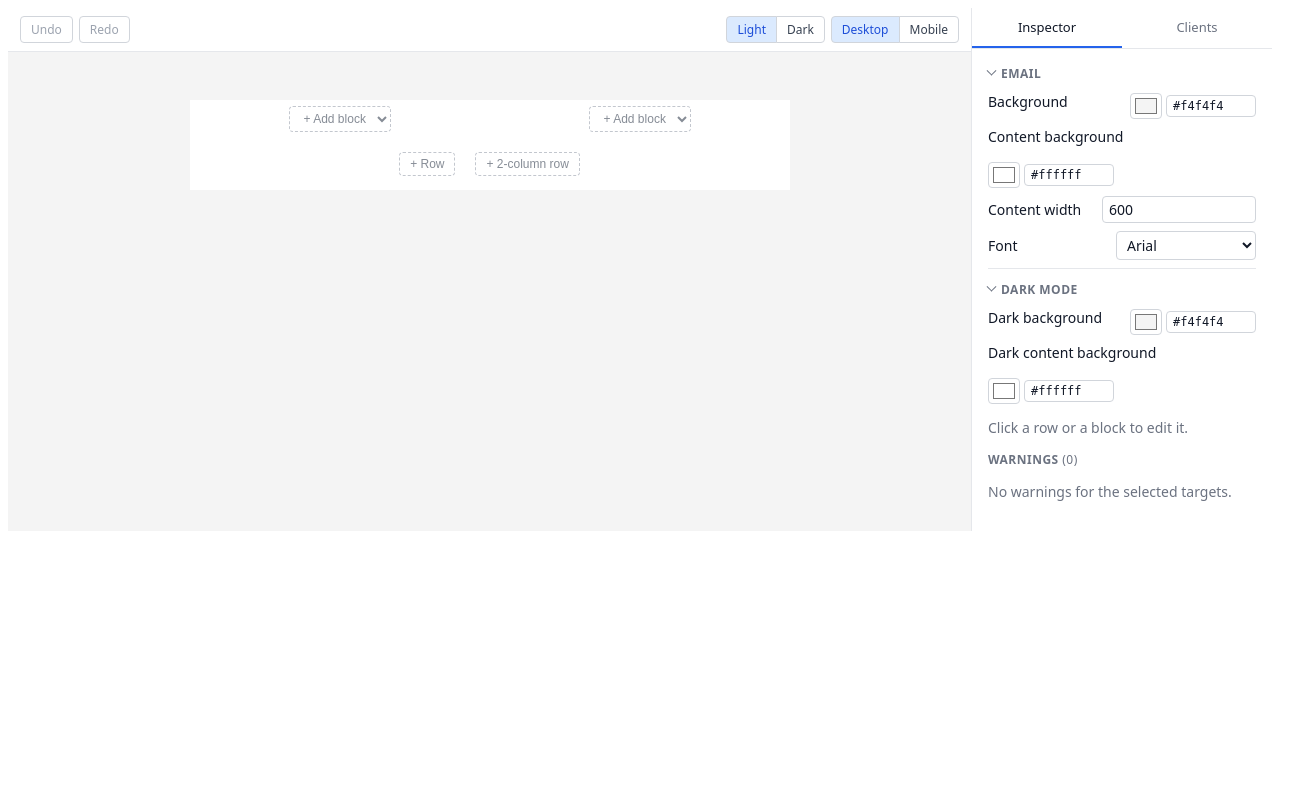
Test case: <MailBlocks /> add block menu › adds the chosen block to that column, selects it and resets the menu
Select "Button" in the 2nd dropdown named "Add block" at coordinates (640, 119), box [588,106,690,132]
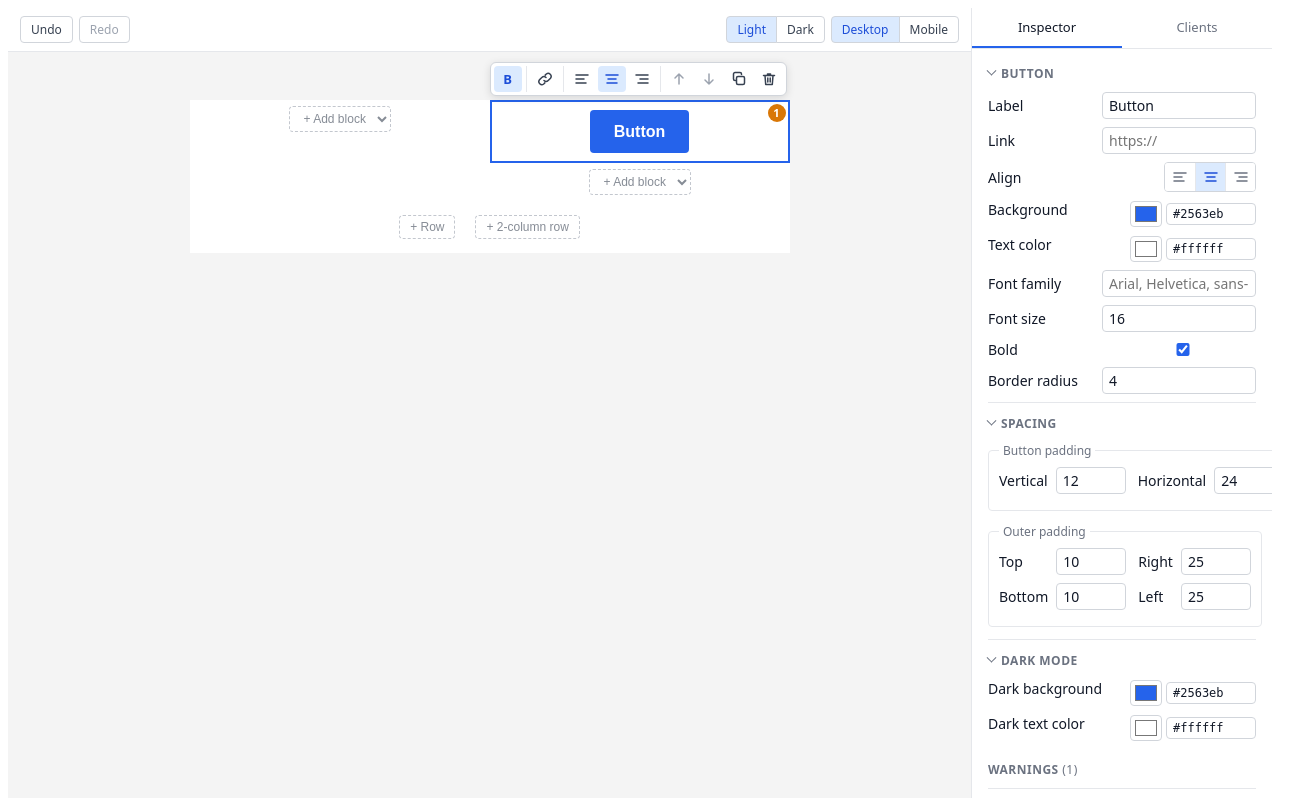
Expected: the heading "Button" is shown, [988,65,1256,92]
